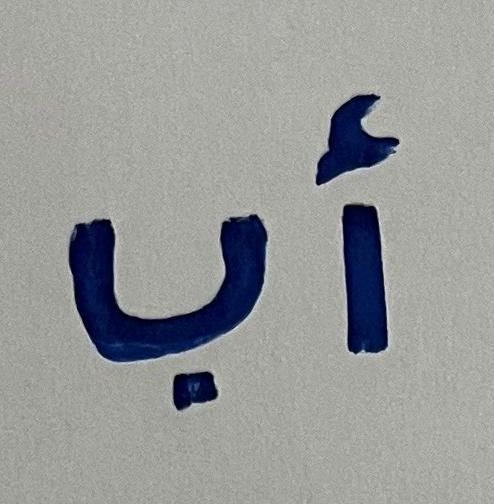feh: (296, 74, 461, 406)
jeem: (25, 144, 289, 431)
